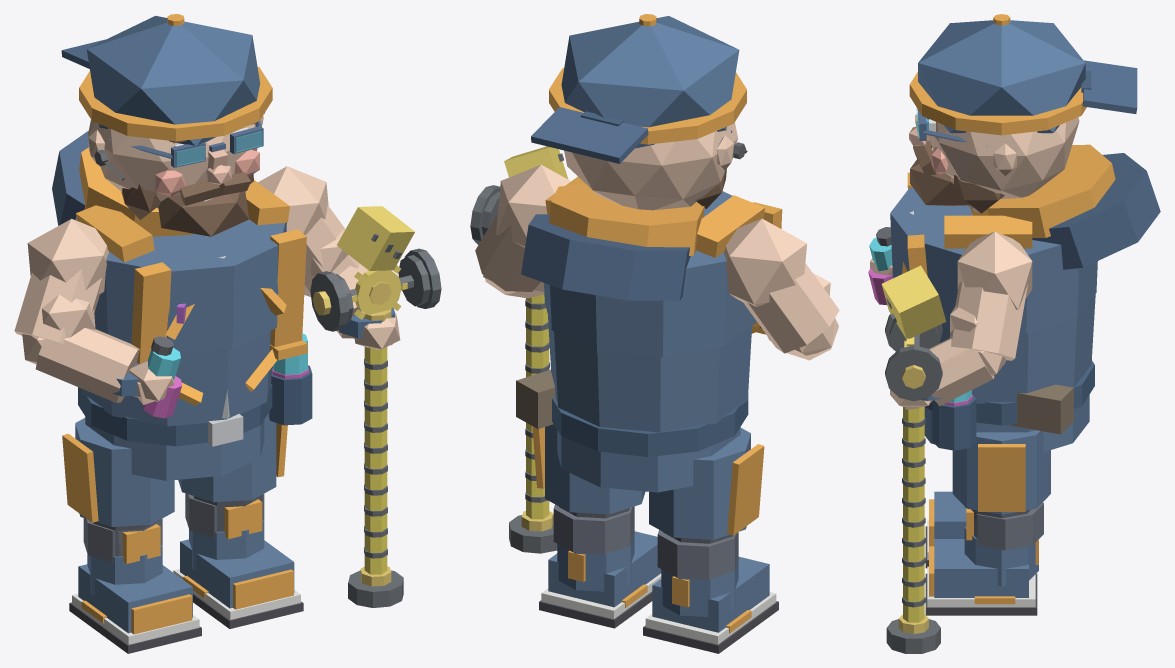
Rendered from coach.glb.
3 views of the same model, side by side, from view 1: azimuth 30°, elevation 25°; view 2: azimuth 150°, elevation 25°; view 3: azimuth 270°, elevation 25° (orthographic). The views are drawn at different scales.
Parts seen in each view (by area): view 1: Coach; view 2: Coach; view 3: Coach.
Part boxes in pixels (<box>): Coach: <box>14,14,441,653</box>; Coach: <box>470,14,839,653</box>; Coach: <box>868,14,1160,653</box>.
Bounding box in the file's own units: 1.23 × 1.82 × 0.865.
